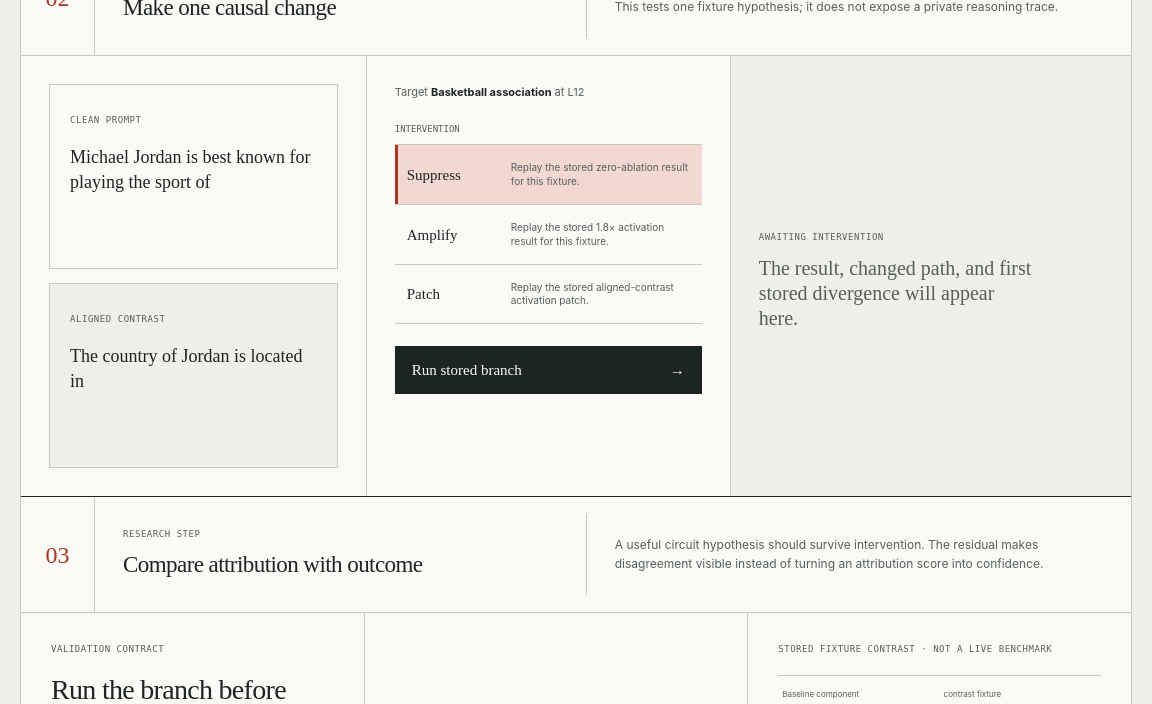
Test case: BranchTraceApp interactions › runs the default causal branch and reports the changed path
(page scrolled)
Click the button with test id "run-intervention" at (467, 370), box x1=395 y1=346 x2=702 y2=394
(page scrolled)
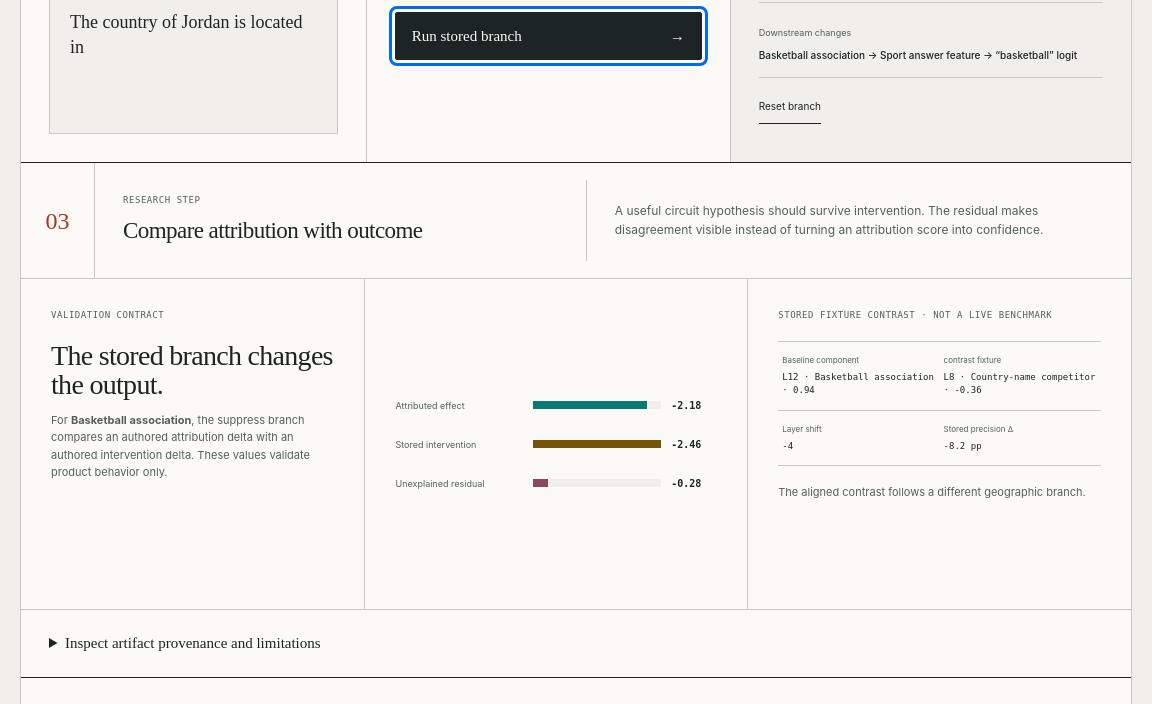
Check: the text "Basketball association → Sport answer feature → “basketball” logit" is shown, box x1=759 y1=48 x2=1103 y2=62
Check: the heading "The stored branch changes the output." is shown, box x1=51 y1=341 x2=334 y2=400
